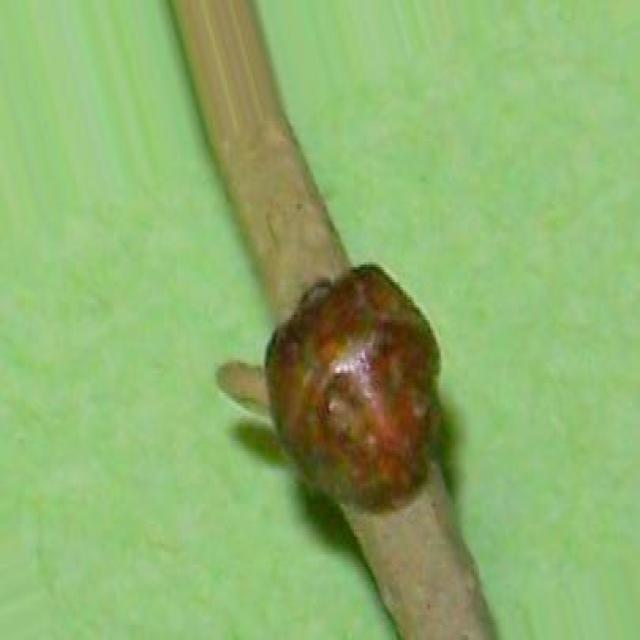Black Scale: (265, 265, 439, 511)
